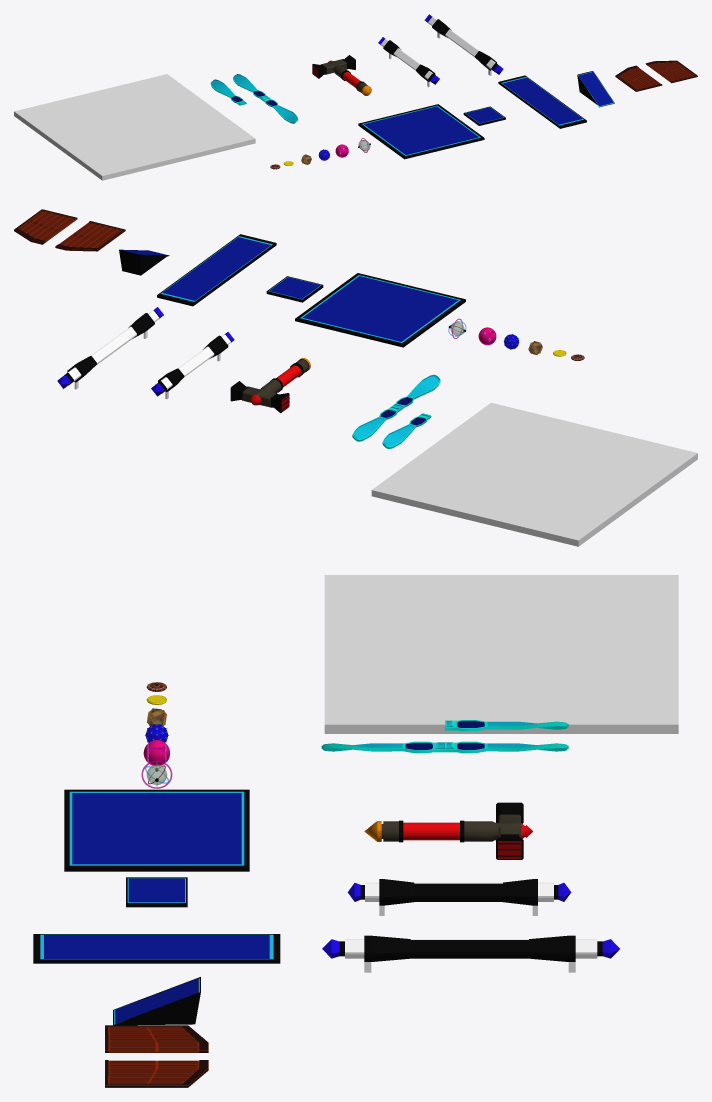
The model's file is object 1.fbx_Collection.fbx.
The picture shows the model from 3 angles, top to bottom: view 1: azimuth 30°, elevation 25°; view 2: azimuth 150°, elevation 25°; view 3: azimuth 270°, elevation 25°; orthographic projection. The views are drawn at different scales.
Parts seen in each view (by area): view 1: floor, Lar. dis, Hall, Hammer, Handrail2, Handrail, r door, l door, fan, sm. distr, Fan 2; view 2: floor, Lar. dis, Hall, Hammer, Handrail2, Handrail, l door, r door, fan, sm. distr, Fan 2; view 3: floor, Lar. dis, Hall, Handrail2, Handrail, Hammer, r door, l door, fan, sm. distr, Fan 2.
Boxes of the visible parts, <box> form: floor: <box>14,74,255,180</box>; Lar. dis: <box>358,104,484,159</box>; Hall: <box>498,71,614,128</box>; Hammer: <box>312,55,371,95</box>; Handrail2: <box>424,14,503,75</box>; Handrail: <box>378,37,439,87</box>; r door: <box>645,60,697,83</box>; l door: <box>615,65,662,91</box>; fan: <box>233,74,298,123</box>; sm. distr: <box>463,106,505,125</box>; Fan 2: <box>210,79,246,105</box>; floor: <box>371,402,697,546</box>; Lar. dis: <box>295,273,465,347</box>; Hall: <box>119,234,276,306</box>; Hammer: <box>230,358,310,413</box>; Handrail2: <box>57,307,163,389</box>; Handrail: <box>151,332,234,398</box>; l door: <box>55,221,125,251</box>; r door: <box>14,209,77,244</box>; fan: <box>352,374,440,441</box>; sm. distr: <box>266,276,323,302</box>; Fan 2: <box>382,413,431,448</box>; floor: <box>324,575,678,733</box>; Lar. dis: <box>64,789,249,871</box>; Hall: <box>33,934,280,1025</box>; Handrail2: <box>322,935,619,972</box>; Handrail: <box>347,879,571,915</box>; Hammer: <box>364,802,532,859</box>; r door: <box>105,1060,208,1087</box>; l door: <box>105,1025,208,1052</box>; fan: <box>321,741,568,753</box>; sm. distr: <box>126,877,187,907</box>; Fan 2: <box>445,720,568,731</box>.
Size of the model in its own units: 12135 by 439 by 6269.
